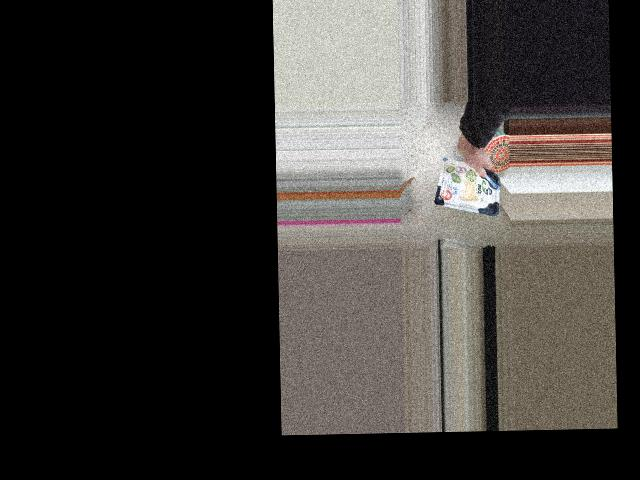cheese: (433, 162, 505, 211)
